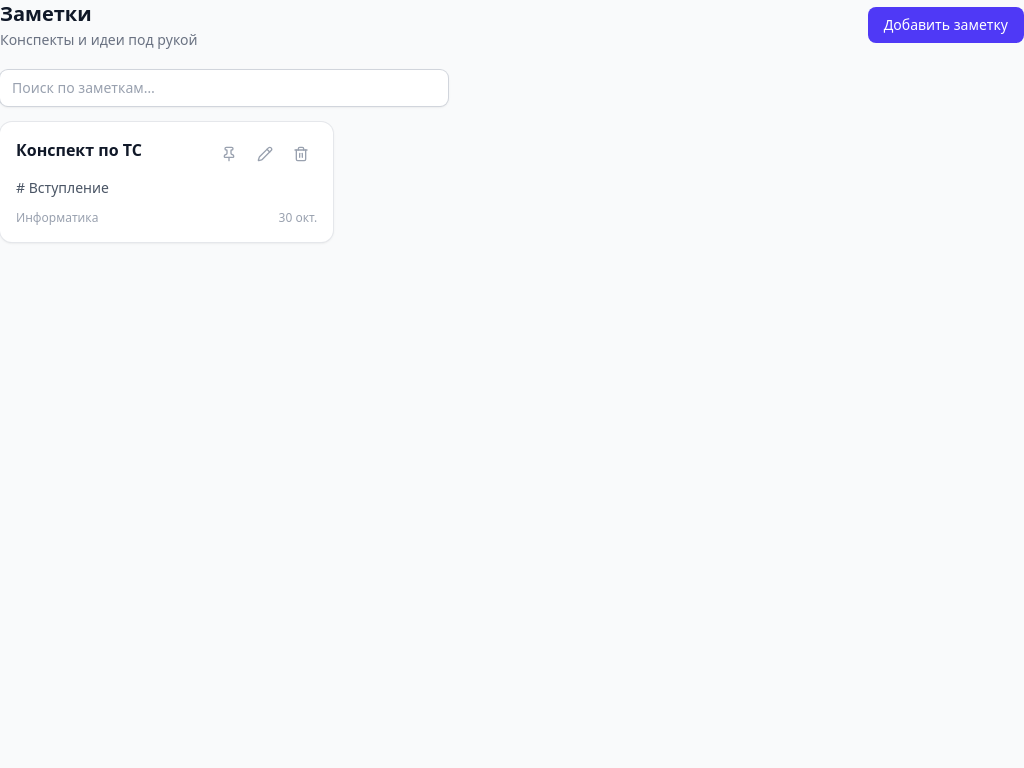
Test case: NotesPage markdown view › opens the note view on card click and renders markdown
Click the heading "Конспект по ТС" at [79, 150], box x1=16 y1=138 x2=142 y2=162
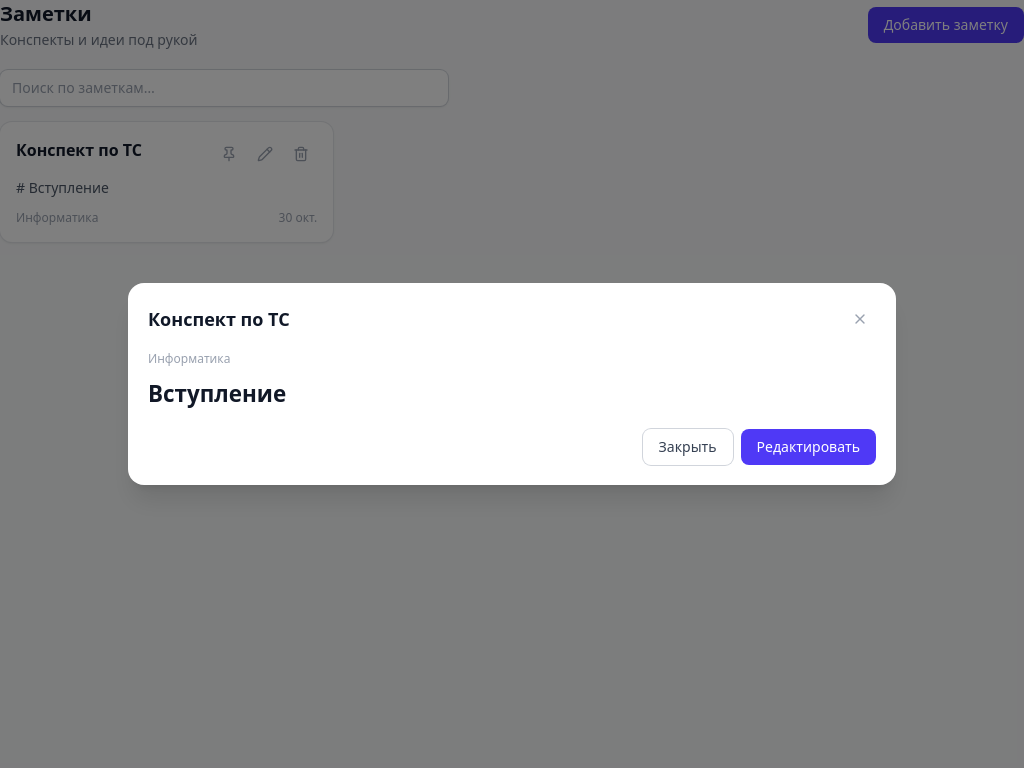
Expected: the heading "Вступление" is shown, x1=148 y1=378 x2=286 y2=409
Expected: the button "Редактировать" is shown, x1=741 y1=429 x2=876 y2=465
